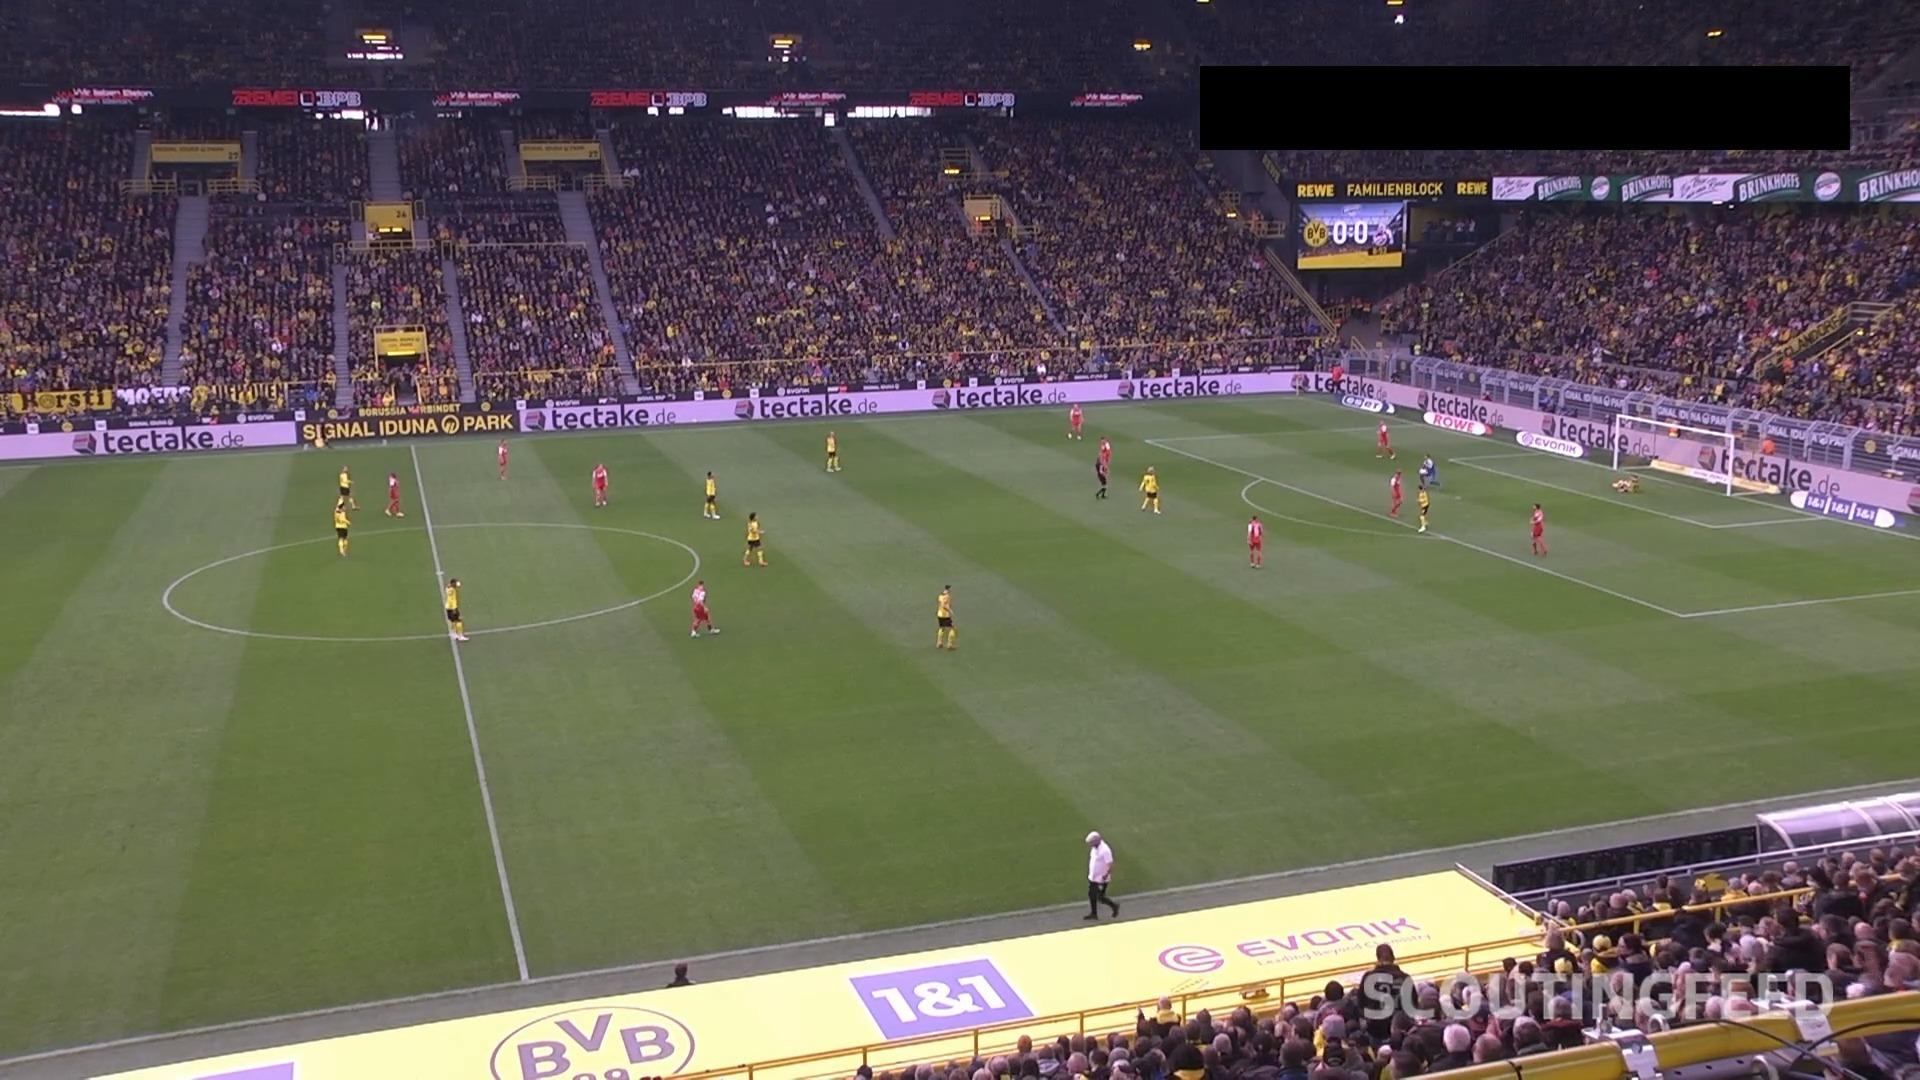coach: (1081, 829, 1119, 920)
player: (688, 579, 720, 637), (443, 577, 468, 641), (934, 583, 957, 649), (741, 510, 767, 566), (1137, 464, 1160, 513), (334, 465, 358, 510), (1528, 502, 1548, 555), (332, 505, 351, 556), (701, 470, 720, 519), (1246, 514, 1263, 567), (384, 471, 403, 517), (1374, 420, 1395, 459), (1094, 435, 1112, 480), (591, 461, 608, 507), (1387, 469, 1403, 516), (1415, 484, 1430, 532), (823, 430, 840, 472), (1066, 402, 1084, 440), (1417, 453, 1436, 488), (1612, 473, 1640, 493), (496, 436, 508, 479)
referee: (315, 418, 336, 455), (1093, 454, 1110, 499), (1328, 363, 1346, 394)
